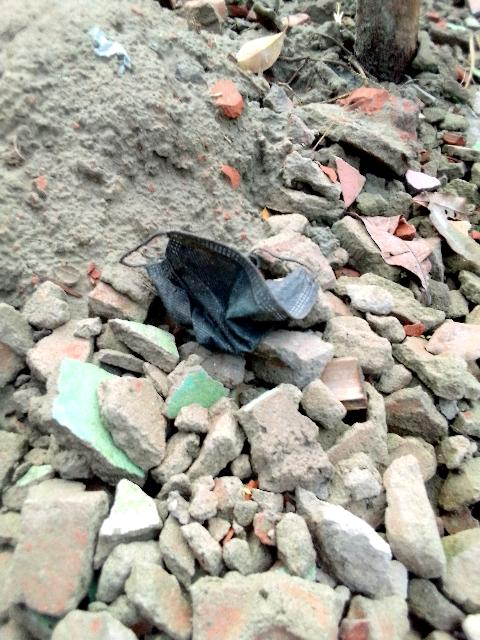mask: (170, 233, 323, 366)
